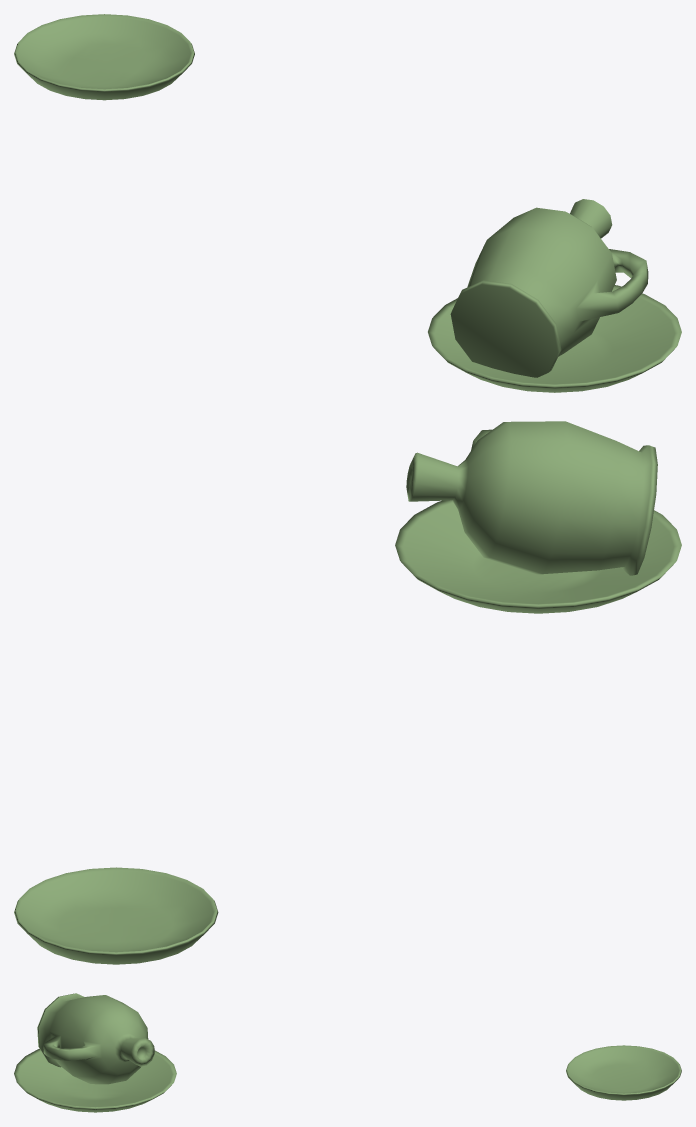
The model's file is Jar_Break_04A_Lod1.fbx.
The picture shows the model from 3 angles, top to bottom: view 1: azimuth 30°, elevation 25°; view 2: azimuth 150°, elevation 25°; view 3: azimuth 270°, elevation 25°; orthographic projection. The views are drawn at different scales.
Visible parts, largest first — view 1: Jar_Break_04A_Lod1; view 2: Jar_Break_04A_Lod1; view 3: Jar_Break_04A_Lod1.
Part boxes in pixels (bbox=[...]): Jar_Break_04A_Lod1: bbox=[14, 14, 681, 392]; Jar_Break_04A_Lod1: bbox=[14, 421, 681, 964]; Jar_Break_04A_Lod1: bbox=[14, 993, 681, 1112].
Size of the model in its own units: 34.48 by 21.57 by 137.
